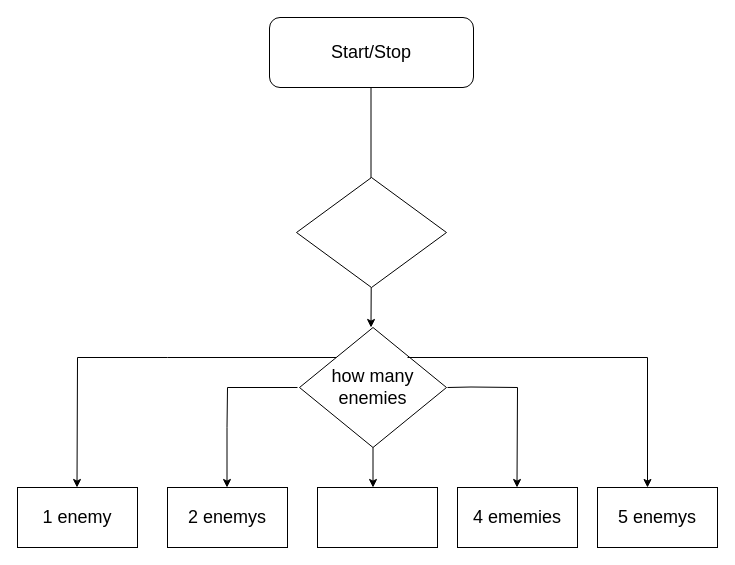
This 735x565 diagram has some shape labels left out. Each missing label, with the centre of its shape:
3 enemys: the point at 377,517
enter a name: the point at 371,232
